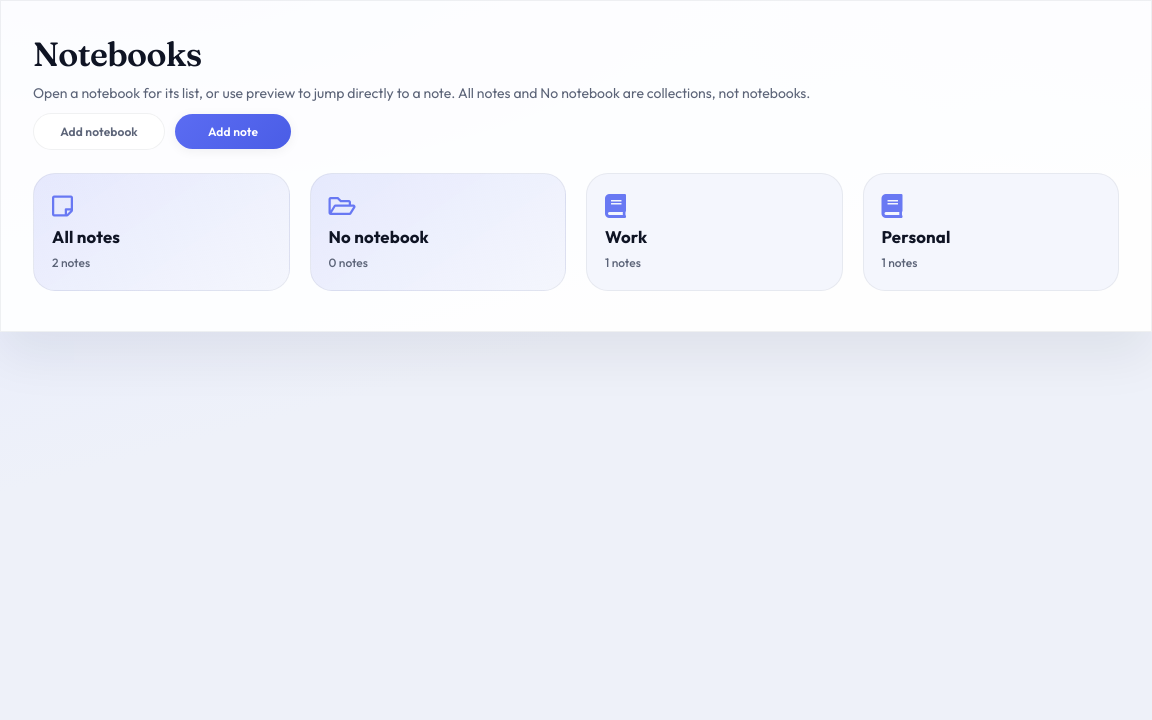
Test: restores the full notebook grid from the preview rail
The image size is (1152, 720).
Click the button "Work 1 notes" at [714, 232], box [586,173,842,291]
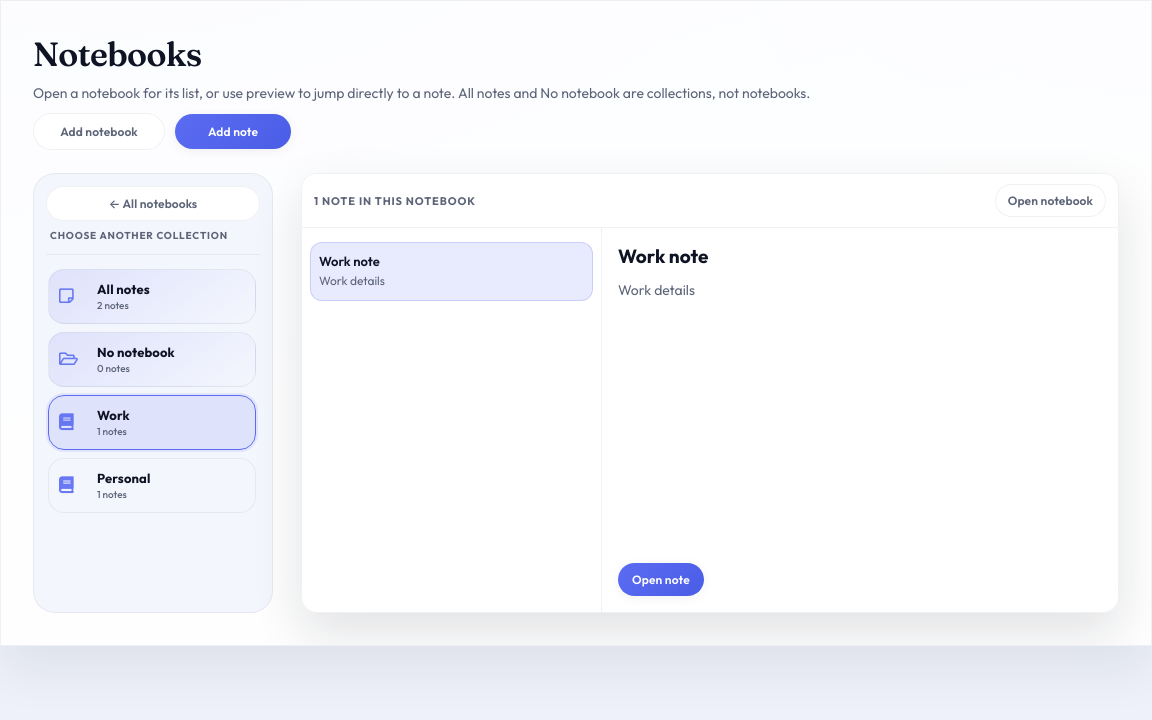
Click the button "← All notebooks" at [153, 204], box [46,186,260,221]
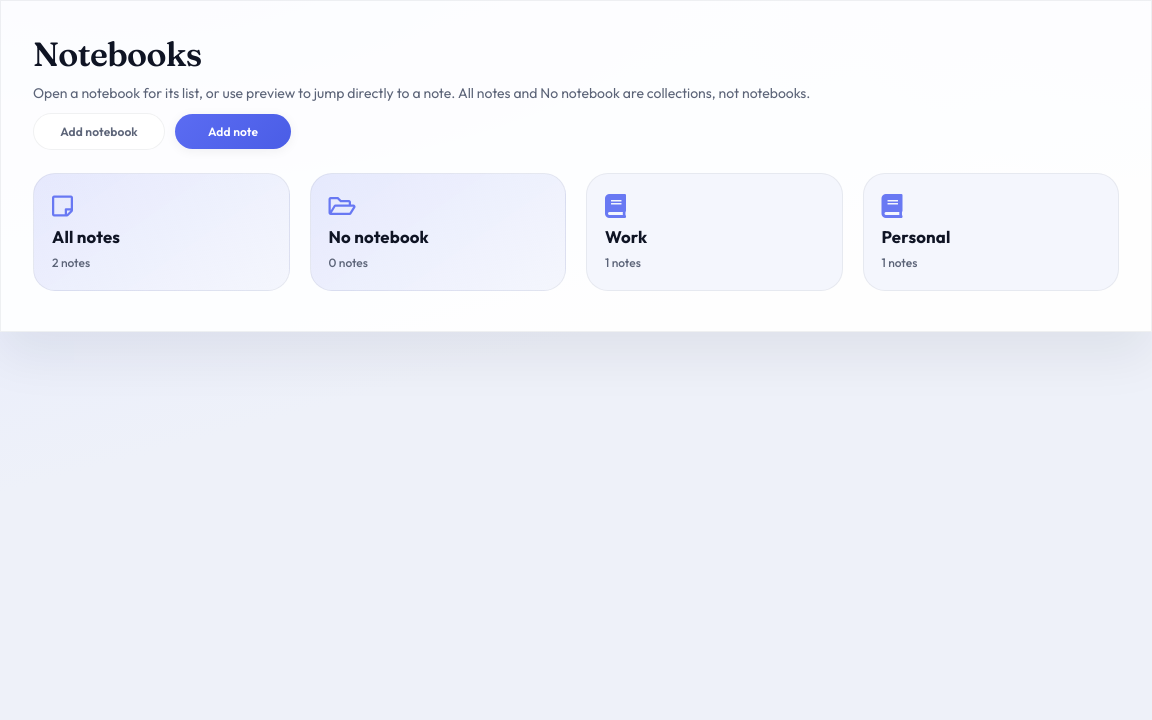
Check: the button "All notebooks" is gone
